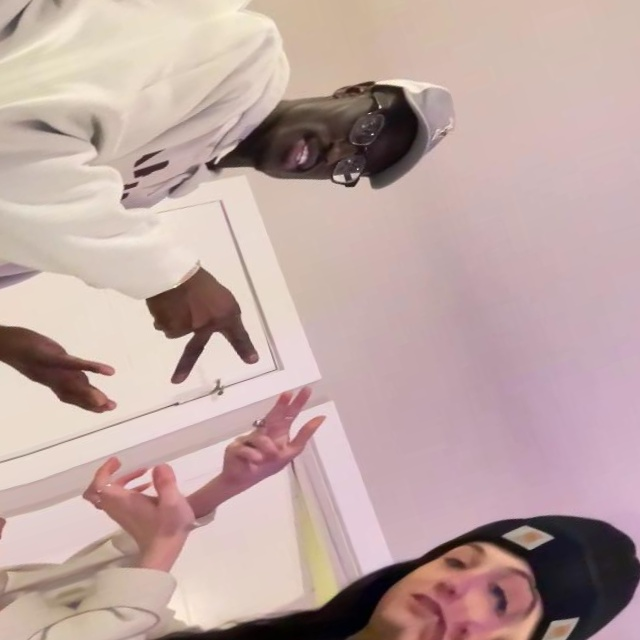Scissors: (135, 258, 261, 392)
